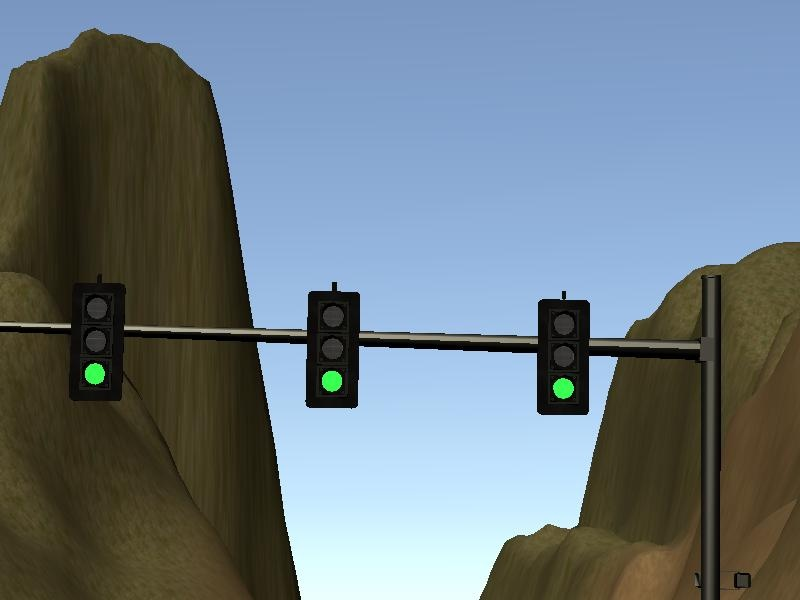GREEN: (537, 298, 591, 417), (305, 292, 359, 410), (71, 281, 122, 401)
